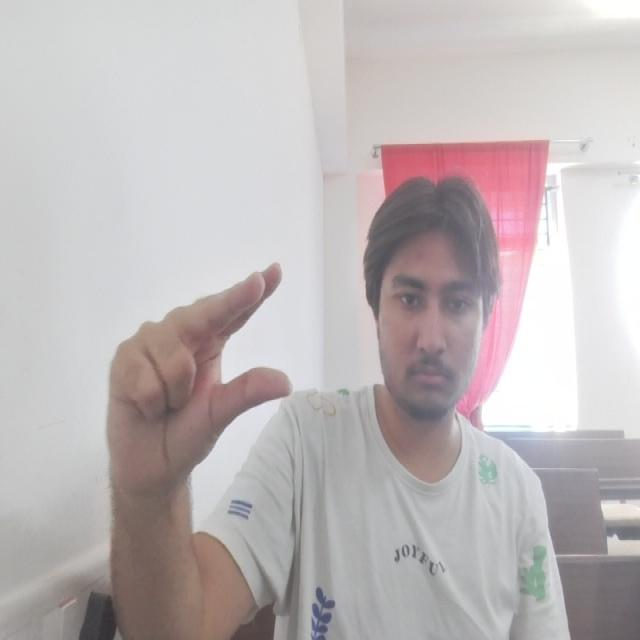no: (106, 261, 295, 481)
